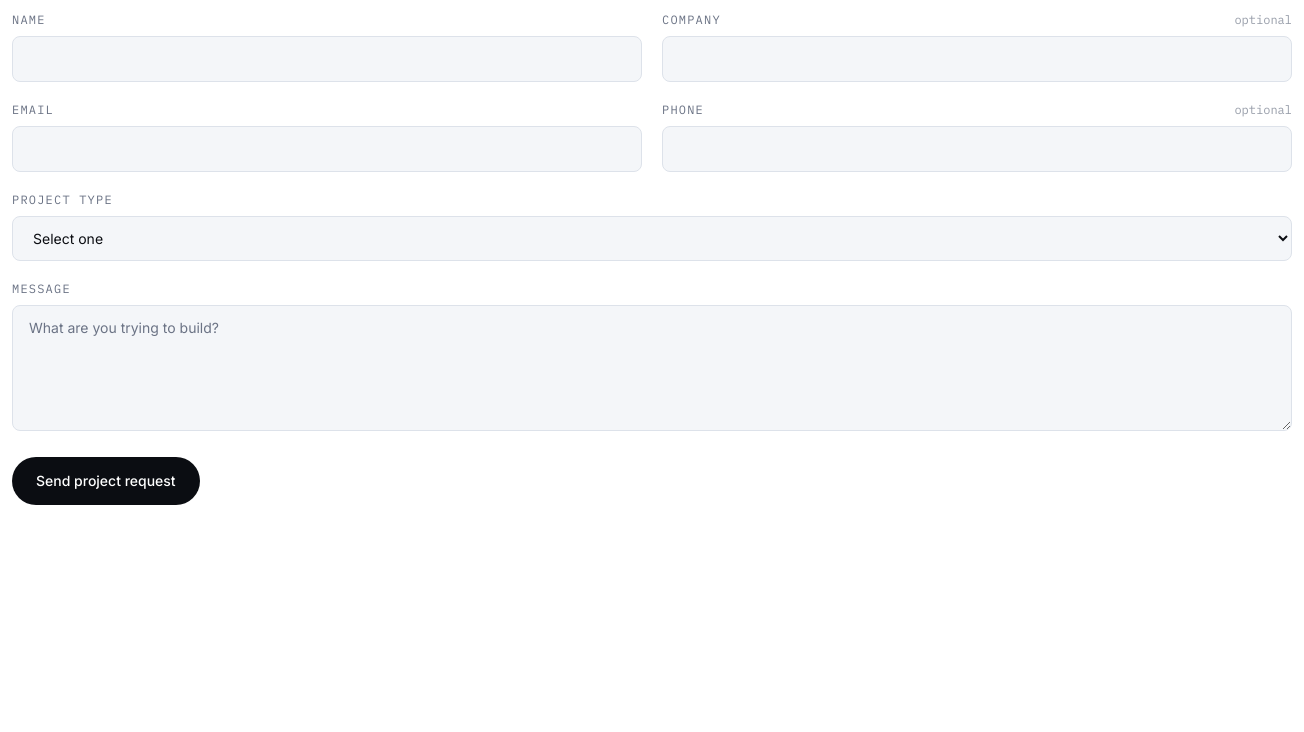
ContactForm › submits successfully with valid input and shows the success state
Type "Ada Lovelace" into the field labelled "Name" at [327, 59], box left=12, top=36, right=642, bottom=82
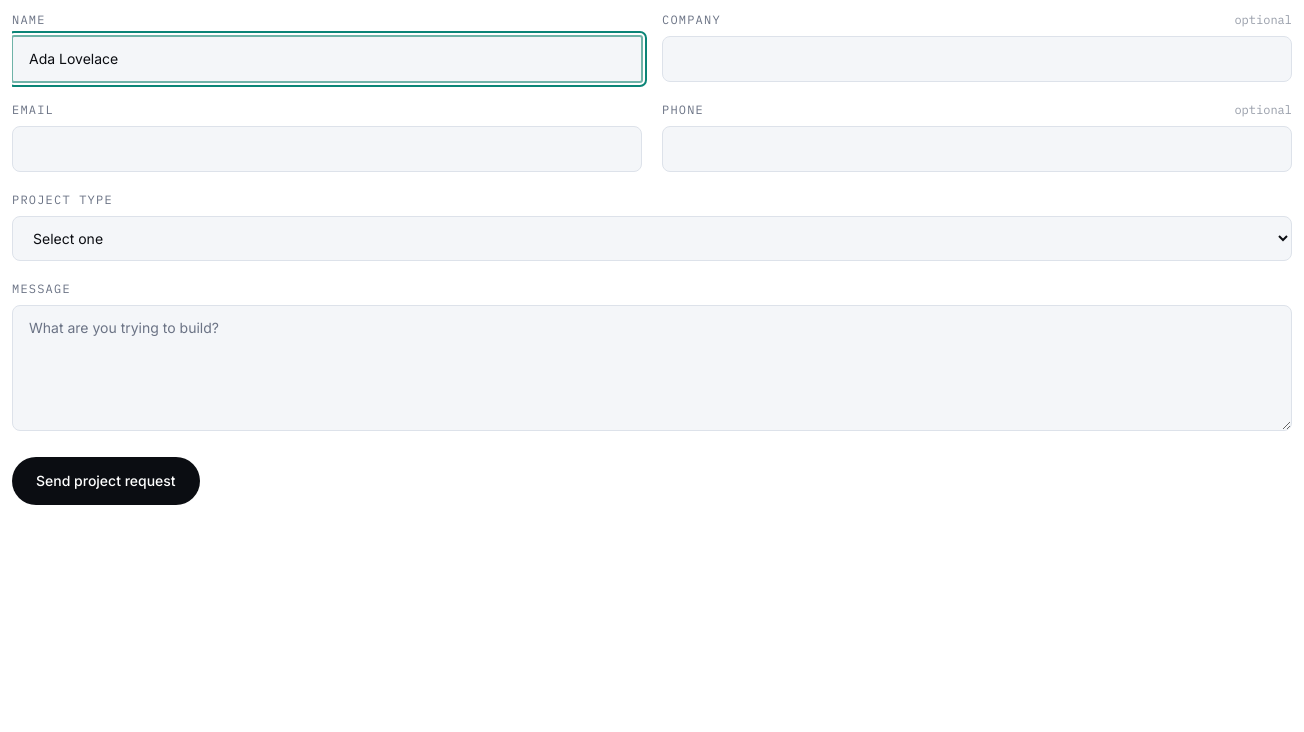
Type "ada@example.com" into the field labelled "Email" at [327, 149], box left=12, top=126, right=642, bottom=172
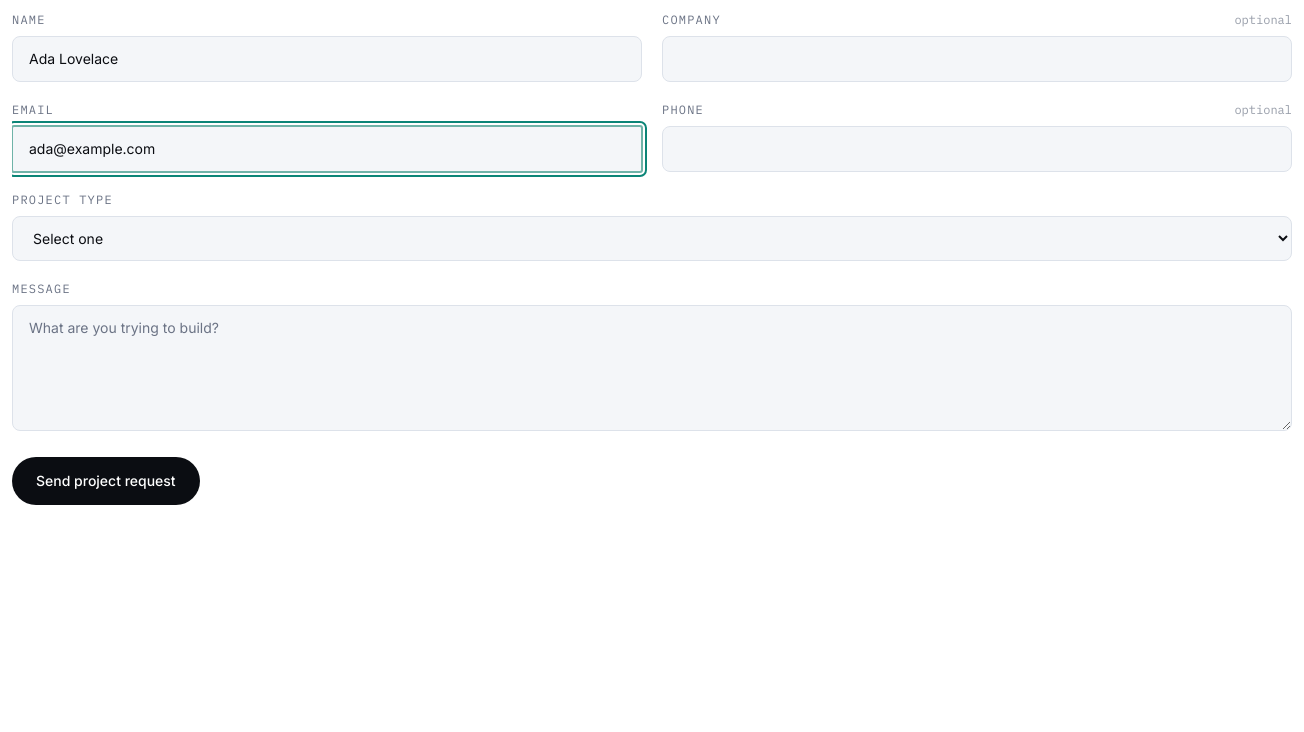
Select "Generative AI" in the dropdown labelled "Project type" at [652, 238], box left=12, top=216, right=1292, bottom=261
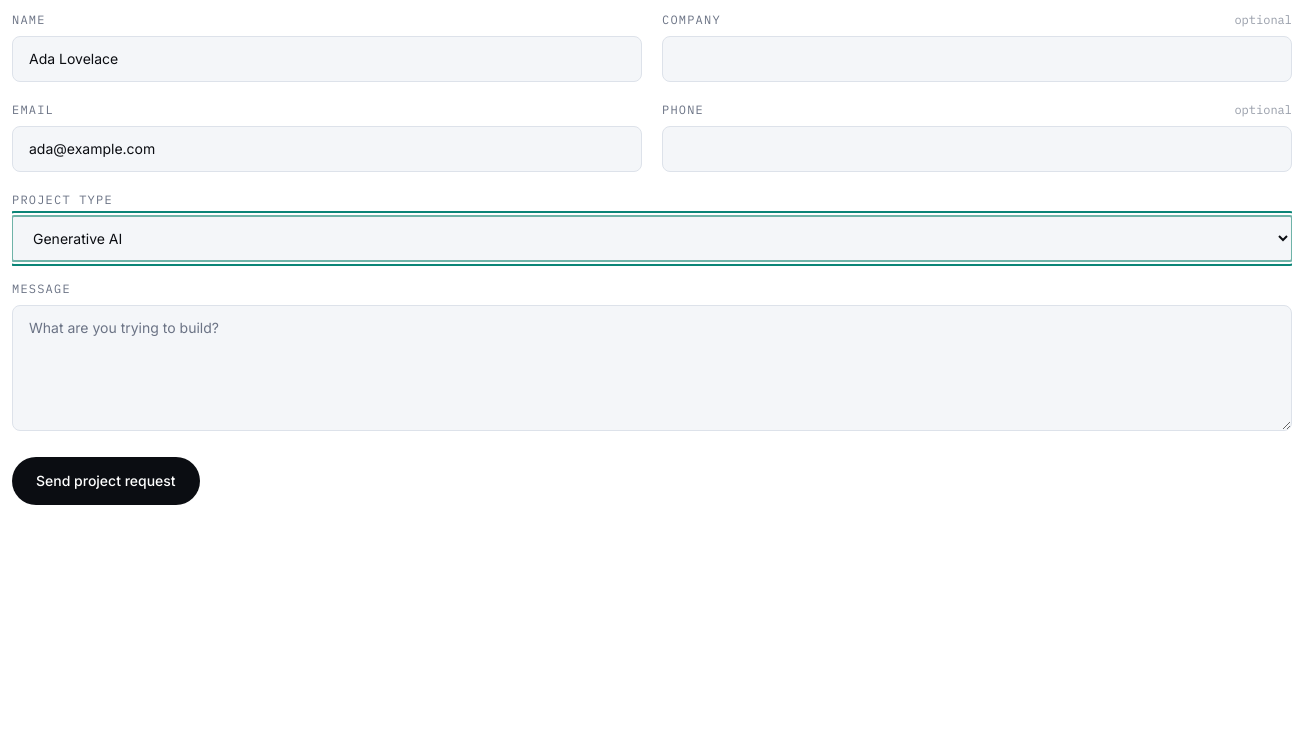
Type "We'd like to explore an internal knowledge assistant for our support team." into the text box labelled "Message" at [652, 368], box left=12, top=305, right=1292, bottom=431
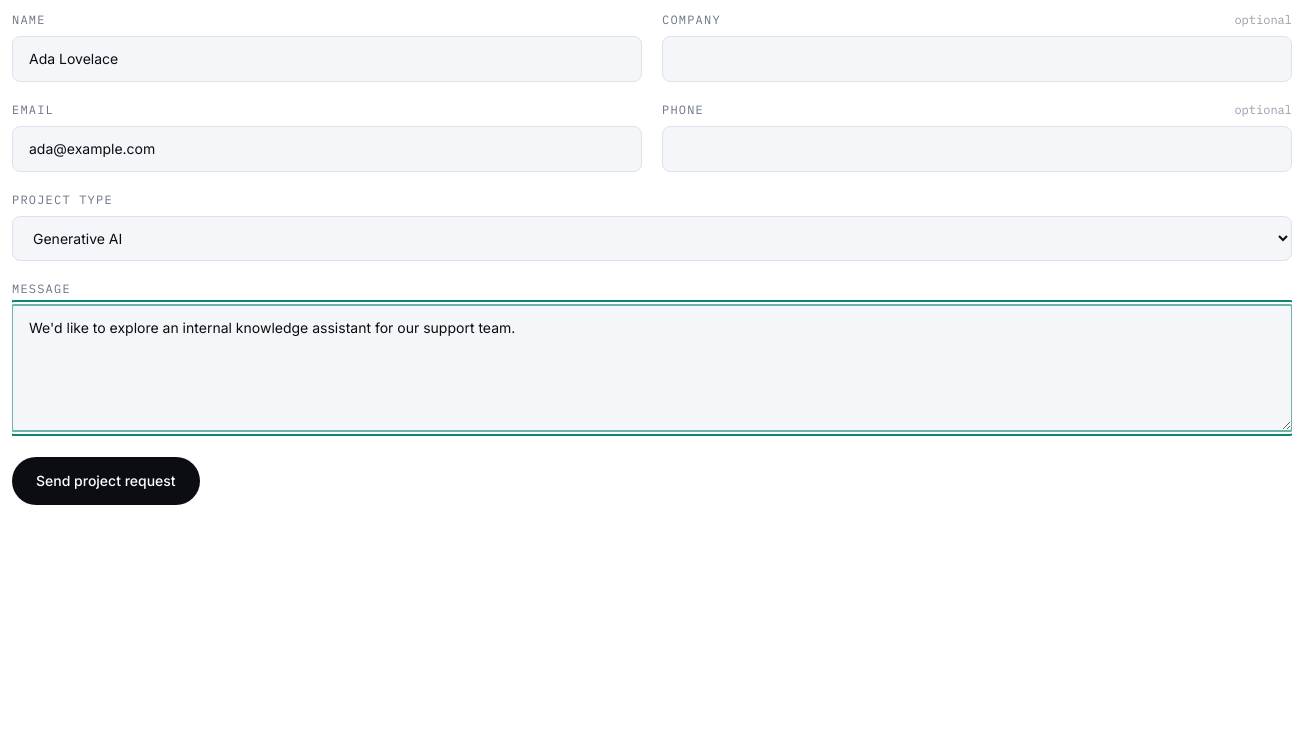
Click the button "Send project request" at [106, 481], box left=12, top=457, right=200, bottom=505
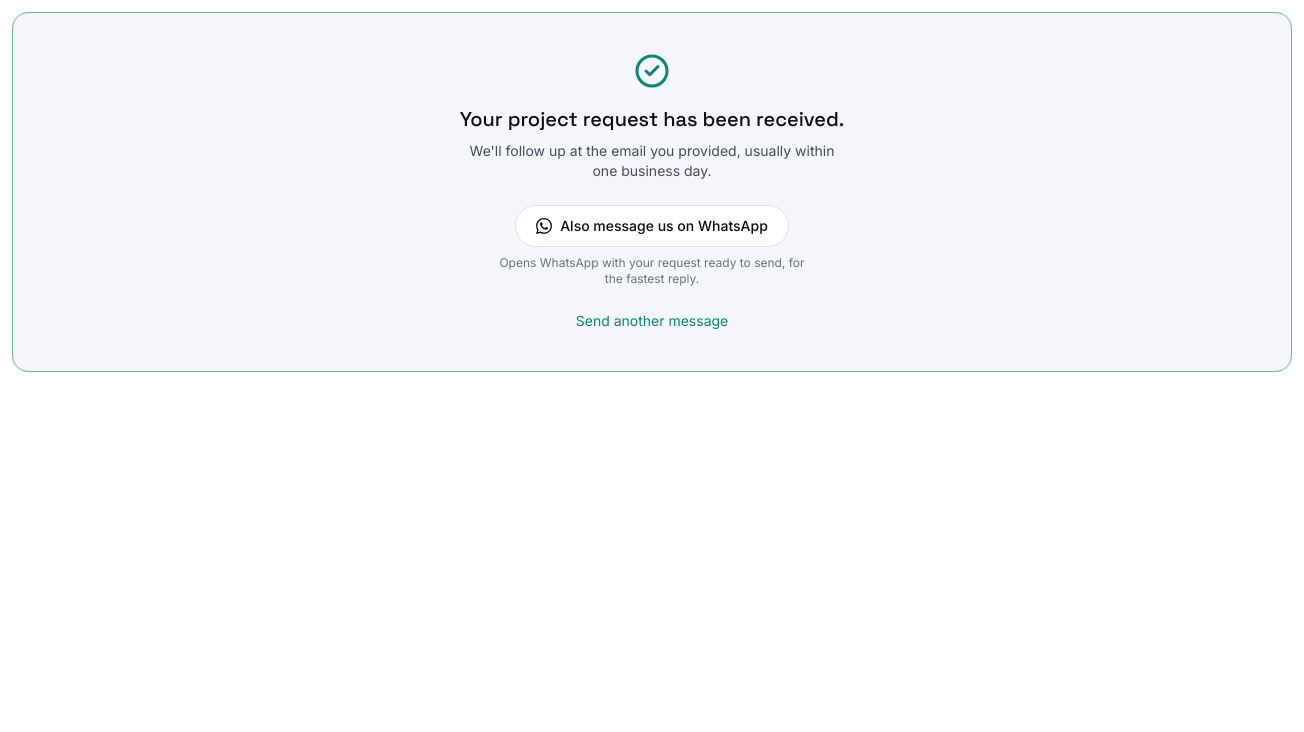
expect the heading "Your project request has been received." is shown: met, box left=460, top=105, right=844, bottom=133
